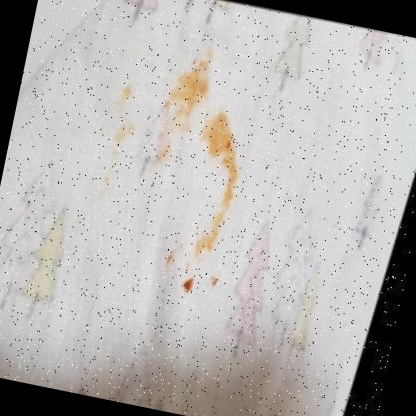kimchi: (191, 161, 260, 262), (154, 51, 218, 140), (202, 108, 253, 164), (97, 119, 135, 187), (171, 275, 199, 305), (152, 139, 175, 170), (204, 273, 225, 296), (161, 249, 178, 268), (121, 85, 133, 101)
